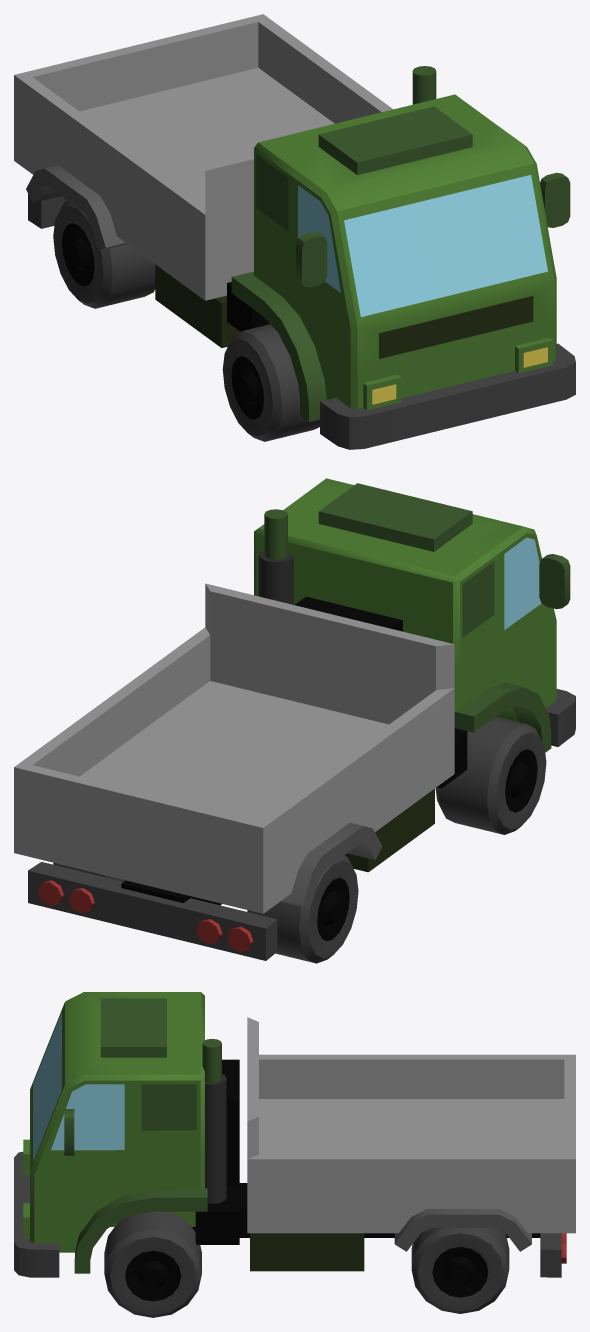
File: Truck 2.fbx
3 views of the same model, one above another, from view 1: azimuth 30°, elevation 25°; view 2: azimuth 150°, elevation 25°; view 3: azimuth 270°, elevation 25° (orthographic). The views are drawn at different scales.
Parts seen in each view (by area): view 1: Cube.466, Cube.467, Cube.470, Cylinder.553, Cylinder.555, Cube.469, Plane.080, Cube.471, Cube.473, Cube.472, Cylinder.554, Cube.474; view 2: Cube.467, Cube.466, Cylinder.553, Cube.474, Cylinder.555, Cube.469, Plane.080, Cylinder.554, Cube.473, Cylinder.556, Cube.472, Cube.471 (+2 smaller); view 3: Cube.467, Cube.466, Cylinder.553, Cylinder.555, Cube.473, Cube.472, Cube.469, Cylinder.554, Plane.080, Cube.470, Cube.474, Cube.468 (+1 smaller).
Part boxes in pixels (x1=…): Cube.466: x1=254, y1=94, x2=556, y2=410; Cube.467: x1=14, y1=14, x2=393, y2=300; Cube.470: x1=320, y1=343, x2=575, y2=449; Cylinder.553: x1=222, y1=324, x2=319, y2=441; Cylinder.555: x1=53, y1=200, x2=155, y2=308; Cube.469: x1=231, y1=272, x2=326, y2=421; Plane.080: x1=26, y1=165, x2=127, y2=251; Cube.471: x1=296, y1=172, x2=570, y2=287; Cube.473: x1=155, y1=264, x2=240, y2=347; Cube.472: x1=227, y1=282, x2=269, y2=331; Cylinder.554: x1=412, y1=66, x2=436, y2=104; Cube.474: x1=28, y1=194, x2=66, y2=228; Cube.467: x1=14, y1=583, x2=454, y2=913; Cube.466: x1=254, y1=478, x2=556, y2=721; Cylinder.553: x1=435, y1=716, x2=546, y2=834; Cube.474: x1=28, y1=862, x2=277, y2=960; Cylinder.555: x1=53, y1=855, x2=358, y2=963; Cube.469: x1=454, y1=682, x2=551, y2=752; Plane.080: x1=280, y1=822, x2=382, y2=908; Cylinder.554: x1=258, y1=509, x2=293, y2=604; Cube.473: x1=344, y1=788, x2=434, y2=872; Cylinder.556: x1=37, y1=880, x2=253, y2=951; Cube.472: x1=294, y1=596, x2=467, y2=788; Cube.471: x1=539, y1=554, x2=570, y2=609; Cube.467: x1=247, y1=1017, x2=575, y2=1233; Cube.466: x1=23, y1=992, x2=204, y2=1252; Cylinder.553: x1=104, y1=1211, x2=201, y2=1317; Cylinder.555: x1=411, y1=1228, x2=509, y2=1313; Cube.473: x1=250, y1=1233, x2=364, y2=1271; Cube.472: x1=195, y1=1059, x2=239, y2=1244; Cube.469: x1=74, y1=1188, x2=207, y2=1273; Cylinder.554: x1=202, y1=1039, x2=226, y2=1203; Plane.080: x1=394, y1=1209, x2=531, y2=1251; Cube.470: x1=14, y1=1151, x2=59, y2=1277; Cube.474: x1=540, y1=1233, x2=561, y2=1277; Cube.468: x1=192, y1=1183, x2=540, y2=1237.
Bounding box in the file's own units: 687 × 681 × 1383.
